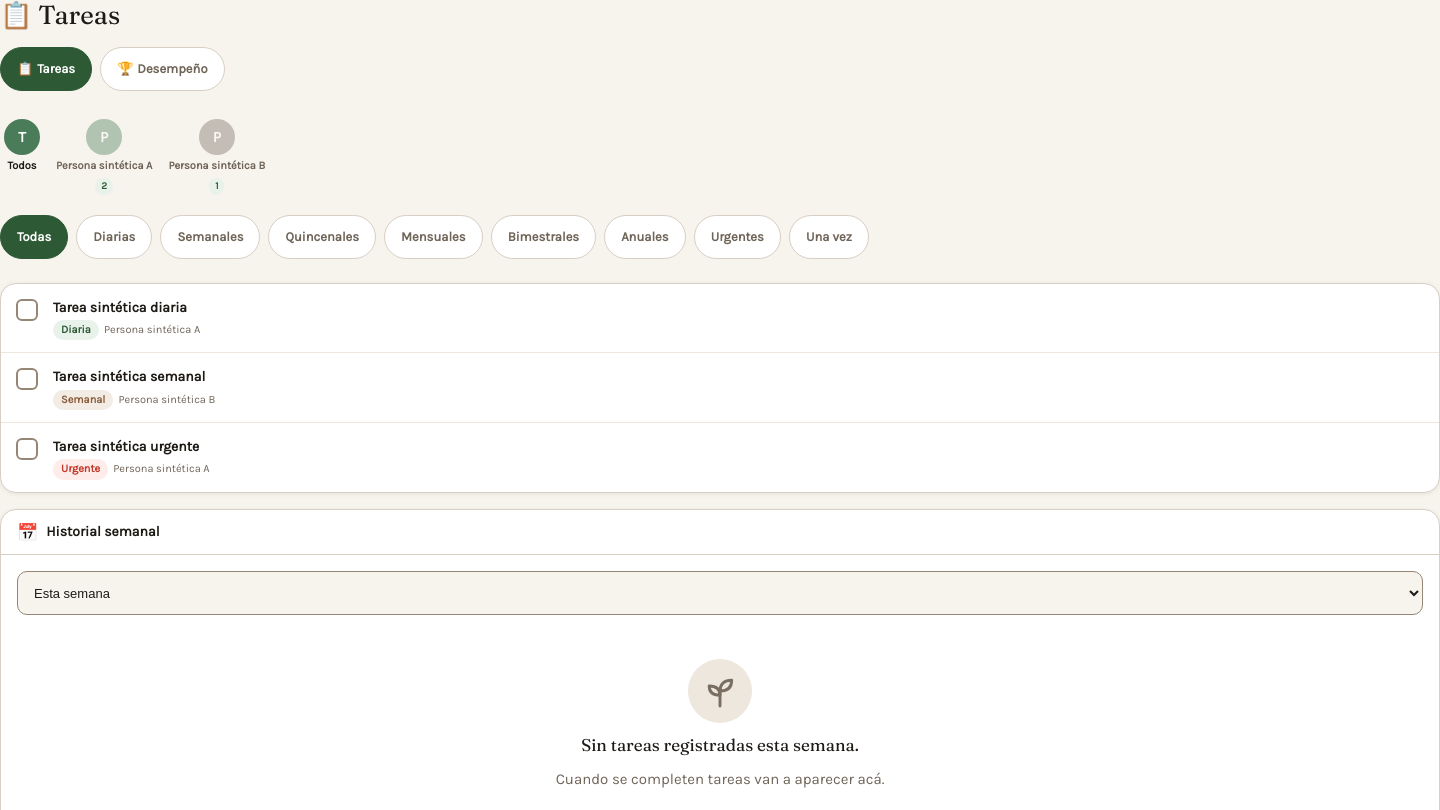
Test: TasksScreen — filtros › filtra por frecuencia (etiqueta textual, como en el prototipo) y avisa si no hay resultados
Expected: the list named "Tareas del período" is shown, [1,284,1439,492]
Click the button "Urgentes" at coordinates (737, 237), box [694,215,781,259]
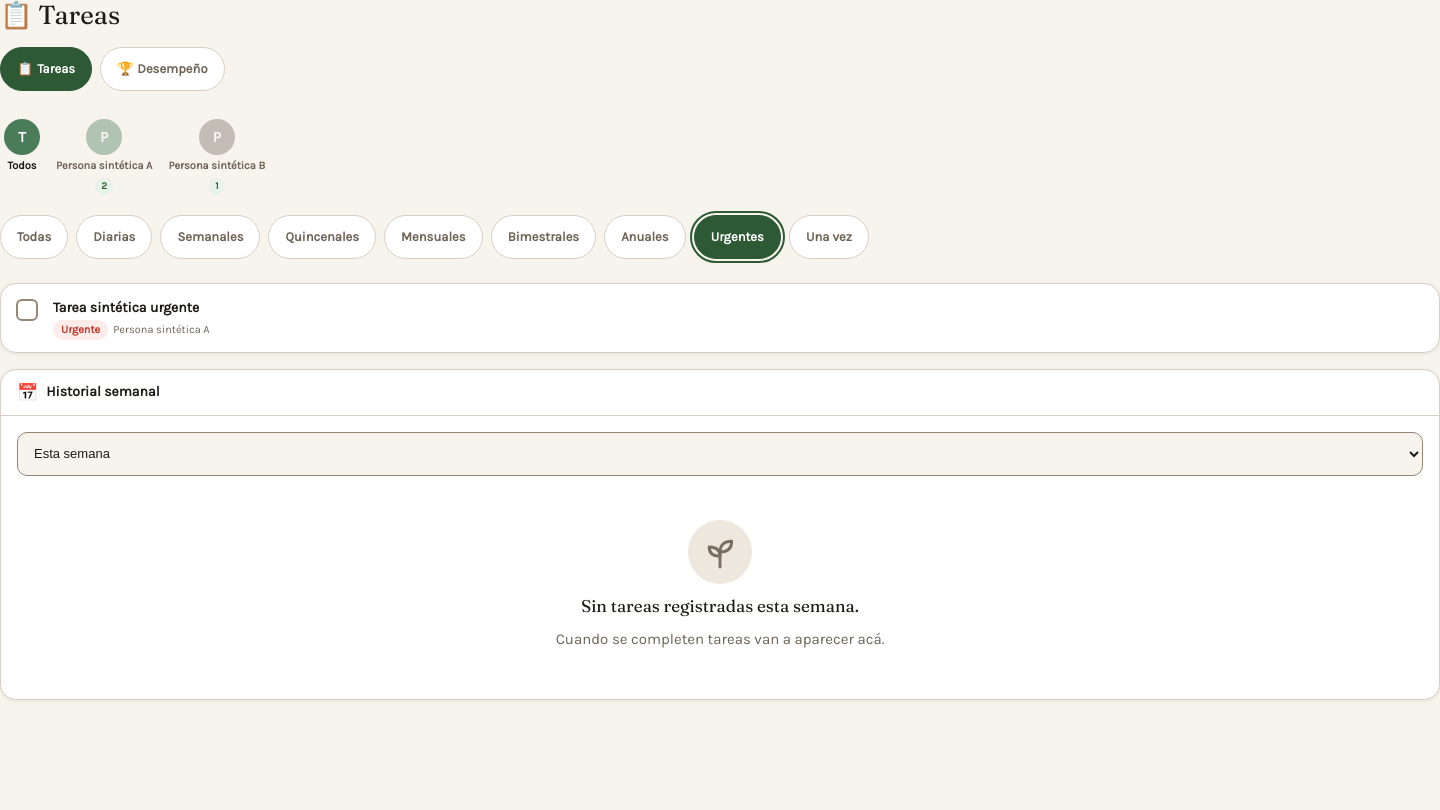
Expected: the text "Urgente" is shown, [53,320,108,340]
Expected: the number of list items is 1, [5,288,210,344]
Click the button "Mensuales" at coordinates (433, 237), box [384,215,483,259]
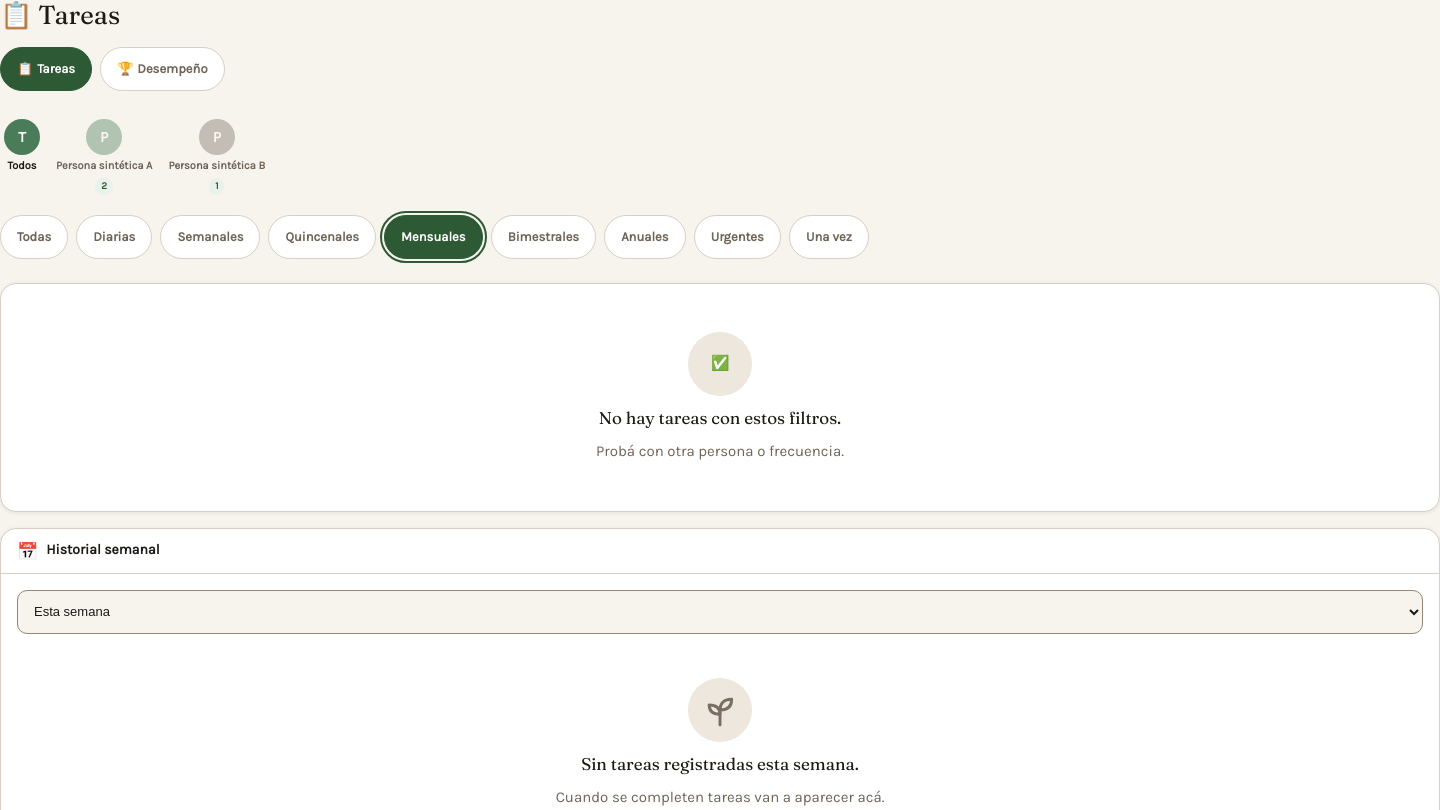
Expected: the heading "No hay tareas con estos filtros." is shown, [599,408,841,428]
